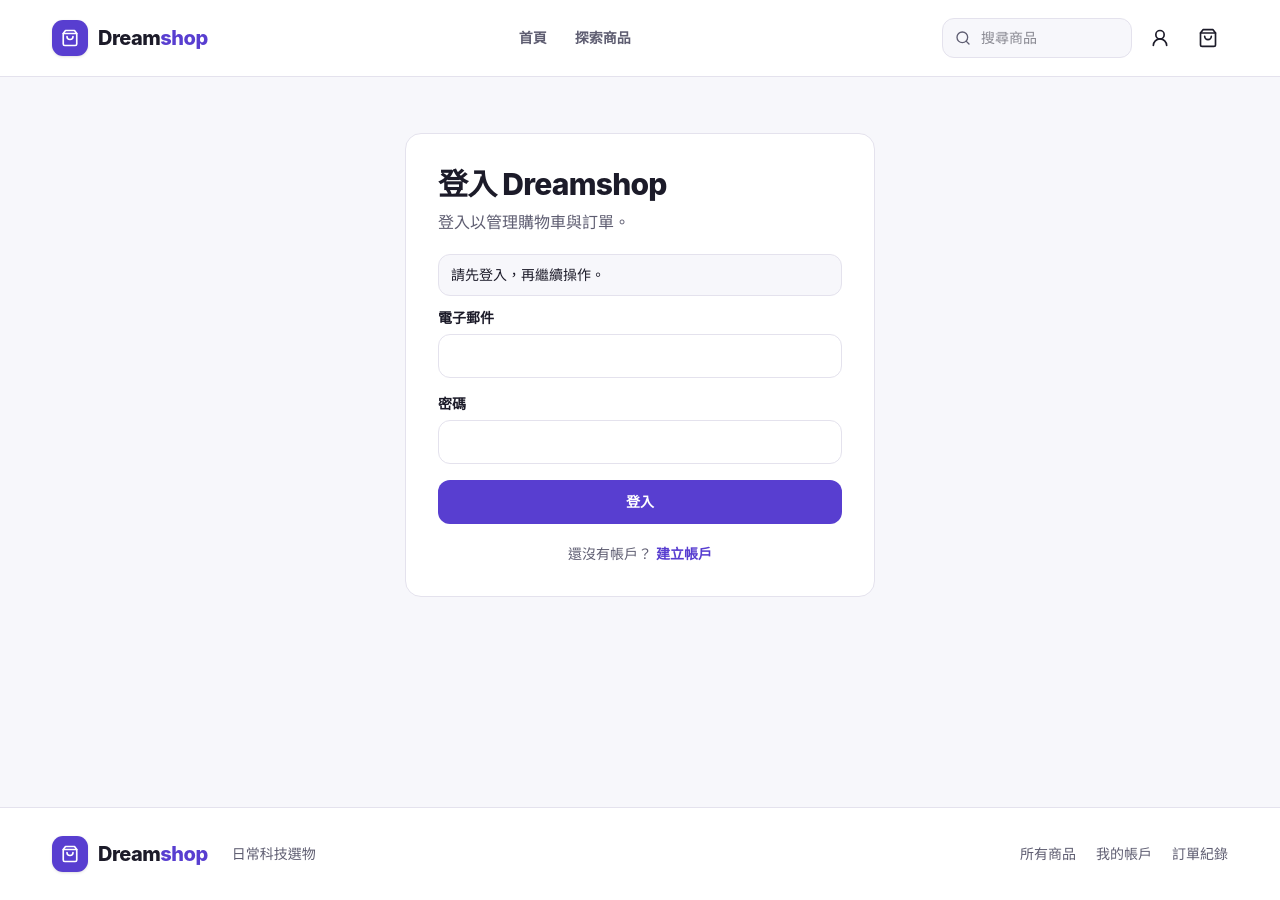
Test: Dreamshop › returns to a protected route after real-client login and reads an empty cart
In the field labelled "電子郵件": (640, 356) [438,334,842,378], type "fixture@example.com"
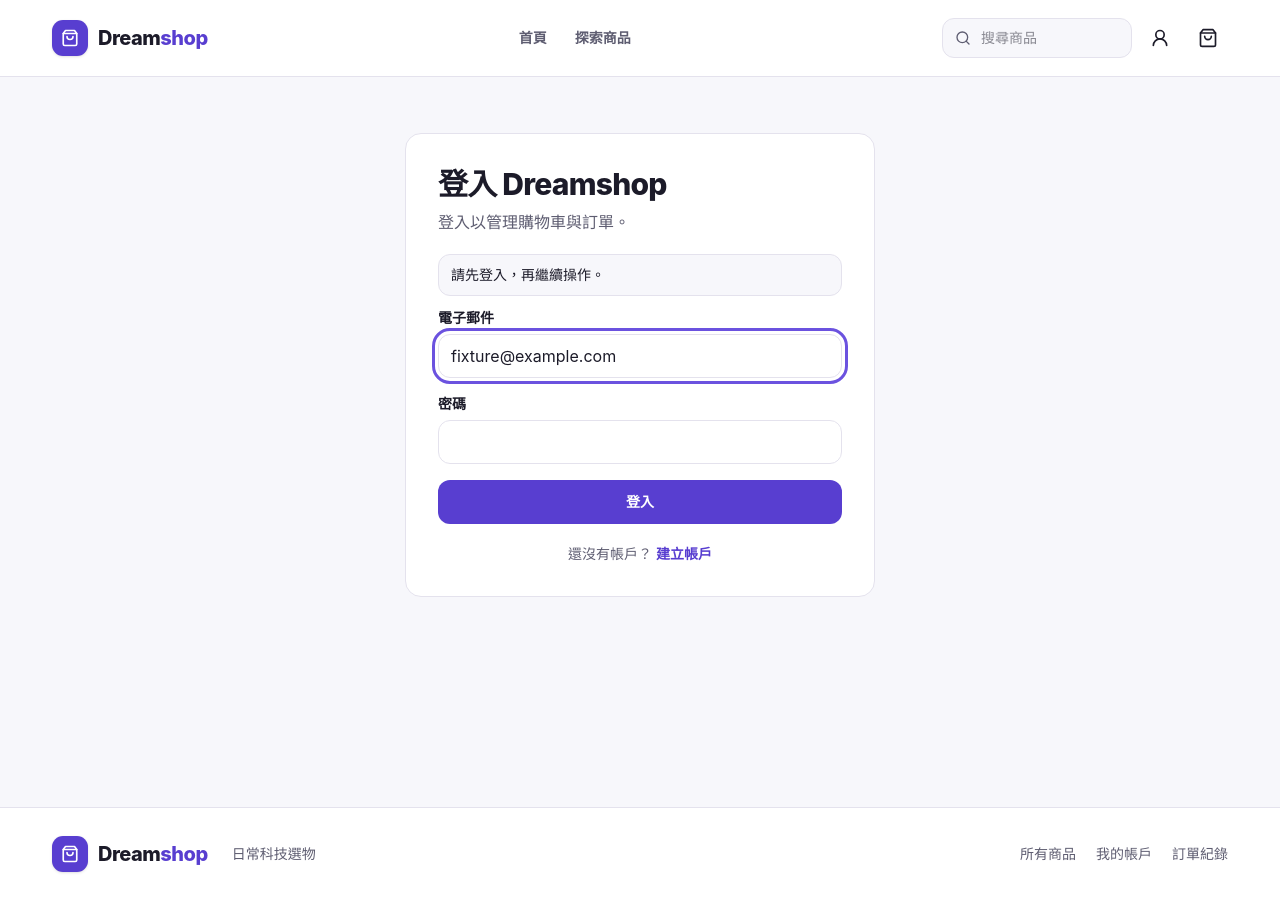
In the password field labelled "密碼": (640, 442) [438,420,842,464], type "test-password"
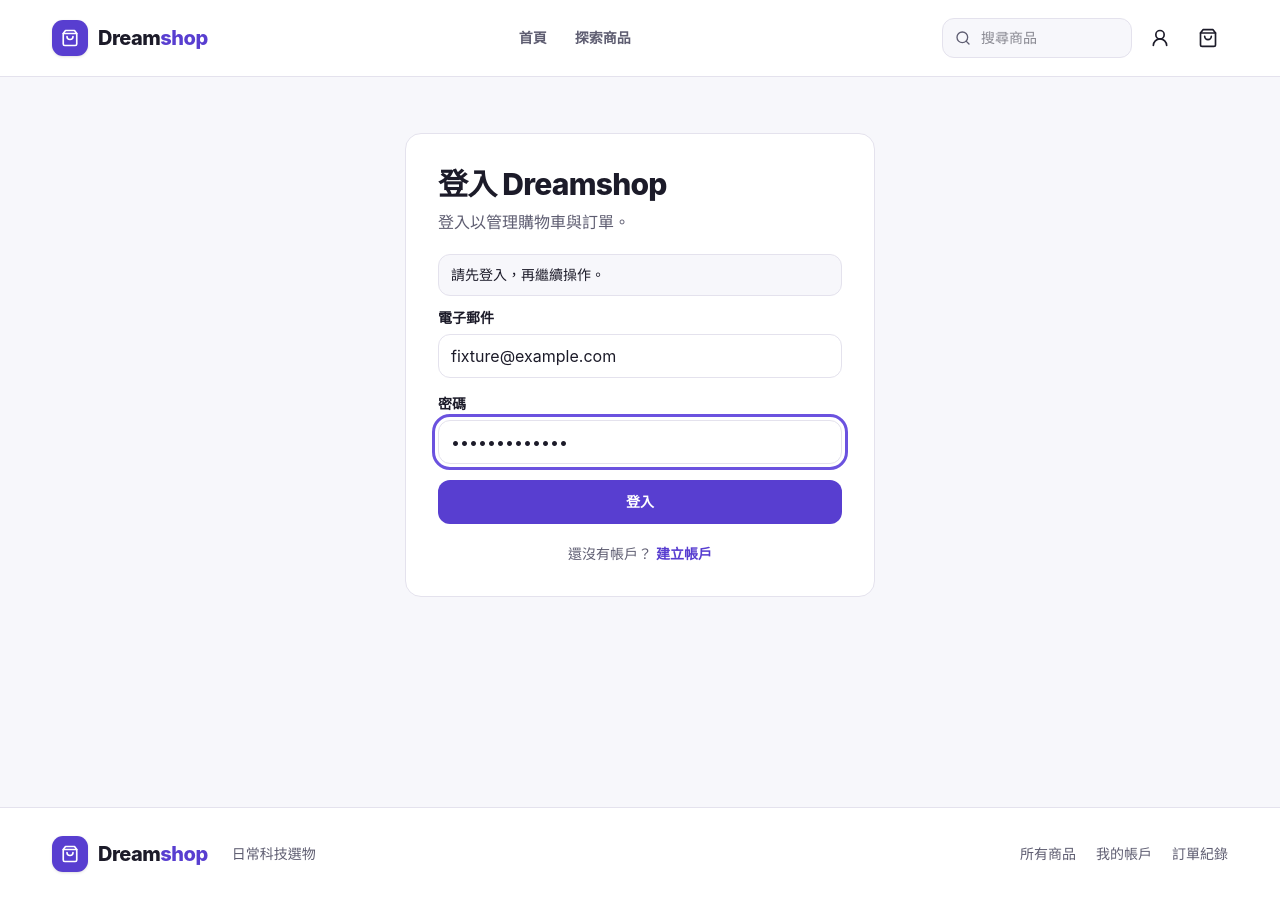
Click the button "登入": (640, 502) [438,480,842,524]
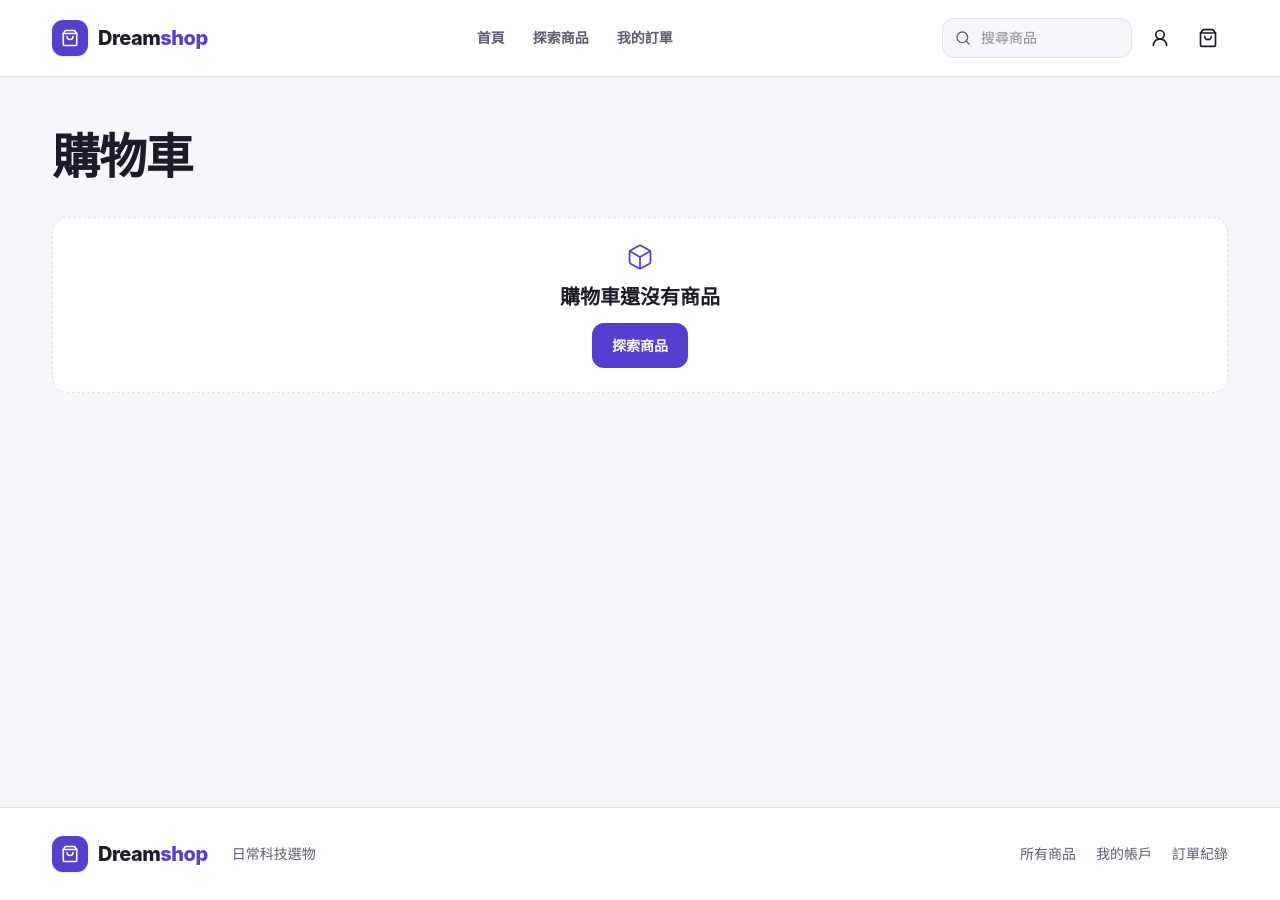
Result: the heading "購物車還沒有商品" is shown at [560,283,720,311]
